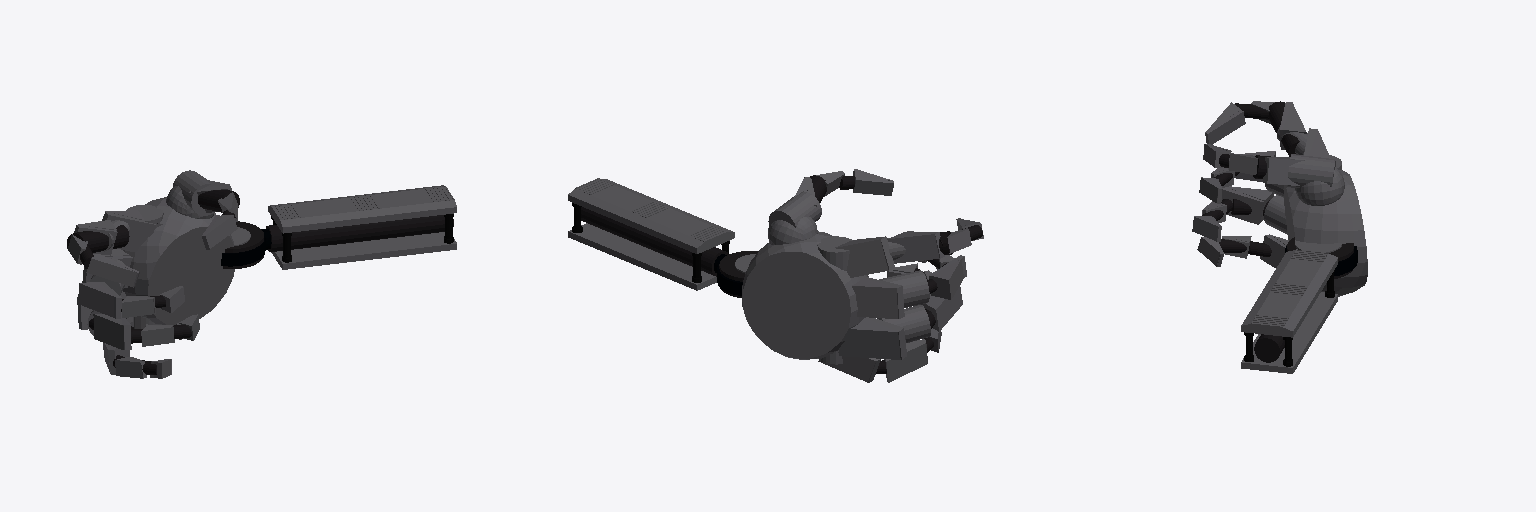
Rendered from OLD_Hand.obj.
3 views of the same model, side by side, from view 1: azimuth 30°, elevation 25°; view 2: azimuth 150°, elevation 25°; view 3: azimuth 270°, elevation 25° (orthographic).
Visible parts, largest first — view 1: Union1, Part7, Part35, Part11, Wedge2, Part12, Wedge18, Wedge3, Part48, Wedge21, Part47, Part44 (+7 smaller); view 2: Union1, Part7, Part11, Part35, Wedge12, Wedge11, Wedge7, Wedge1, Wedge5, Part48, Part12, Part22 (+9 smaller); view 3: Union1, Part11, Part7, Part48, Part22, Wedge1, Part35, Part71, Wedge2, Part41, Part68, Wedge10 (+2 smaller).
Part boxes in pixels (left/top/right/bottom): Union1: left=123, top=197, right=234, bottom=325; Part7: left=271, top=232, right=456, bottom=269; Part35: left=266, top=215, right=453, bottom=251; Part11: left=271, top=187, right=452, bottom=222; Wedge2: left=280, top=200, right=456, bottom=226; Part12: left=268, top=206, right=456, bottom=233; Wedge18: left=78, top=282, right=113, bottom=317; Wedge3: left=86, top=254, right=136, bottom=287; Part48: left=173, top=170, right=213, bottom=215; Wedge21: left=93, top=314, right=123, bottom=349; Part47: left=102, top=211, right=155, bottom=252; Part44: left=67, top=225, right=129, bottom=252; Union1: left=742, top=231, right=868, bottom=359; Part7: left=568, top=223, right=716, bottom=290; Part11: left=577, top=179, right=727, bottom=244; Part35: left=581, top=207, right=728, bottom=276; Wedge12: left=838, top=318, right=900, bottom=359; Wedge11: left=852, top=278, right=897, bottom=318; Wedge7: left=835, top=239, right=888, bottom=277; Wedge1: left=568, top=189, right=703, bottom=247; Wedge5: left=887, top=232, right=939, bottom=263; Part48: left=768, top=191, right=821, bottom=227; Part12: left=568, top=195, right=734, bottom=253; Part22: left=768, top=217, right=817, bottom=244; Union1: left=1283, top=170, right=1367, bottom=296; Part11: left=1251, top=250, right=1325, bottom=329; Part7: left=1241, top=292, right=1337, bottom=373; Part48: left=1287, top=154, right=1335, bottom=187; Part22: left=1295, top=167, right=1344, bottom=205; Wedge1: left=1283, top=254, right=1337, bottom=331; Part35: left=1254, top=334, right=1284, bottom=362; Part71: left=1222, top=187, right=1263, bottom=224; Wedge2: left=1241, top=250, right=1295, bottom=326; Part41: left=1205, top=110, right=1245, bottom=144; Part68: left=1264, top=195, right=1287, bottom=234; Wedge10: left=1268, top=158, right=1304, bottom=185.
Bounding box in the file's own units: 33.31 × 13.61 × 13.08.